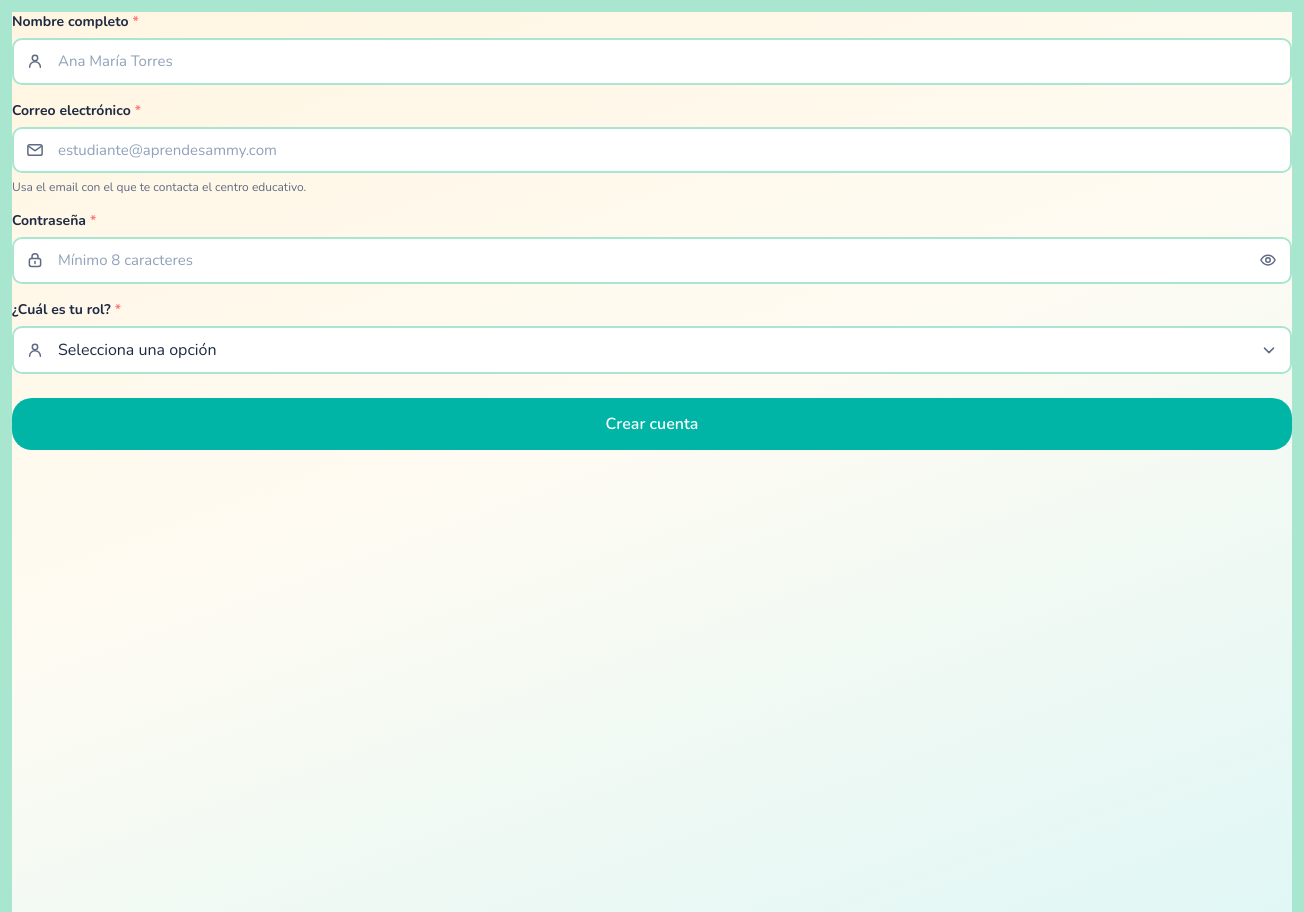
RegisterForm — campo condicional "Sala que lideras" › oculta el campo de sala al volver al rol Padre
Select "Educador" in the dropdown labelled "¿Cuál es tu rol?*" at (652,350), box left=12, top=326, right=1292, bottom=374
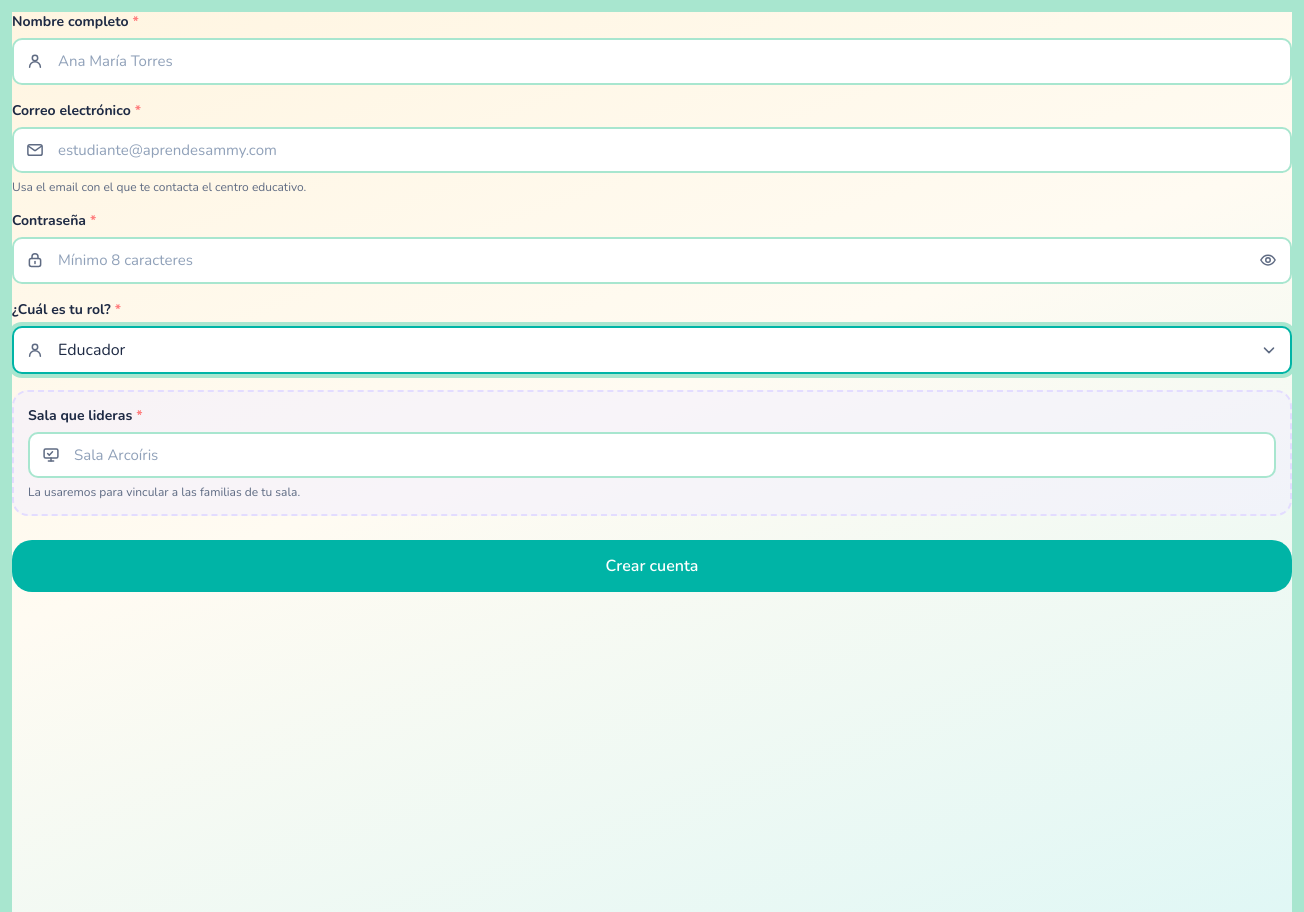
Now the field labelled "Sala que lideras*" is shown, box left=28, top=432, right=1276, bottom=478
Select "Padre / Madre" in the dropdown labelled "¿Cuál es tu rol?*" at (652,350), box left=12, top=326, right=1292, bottom=374
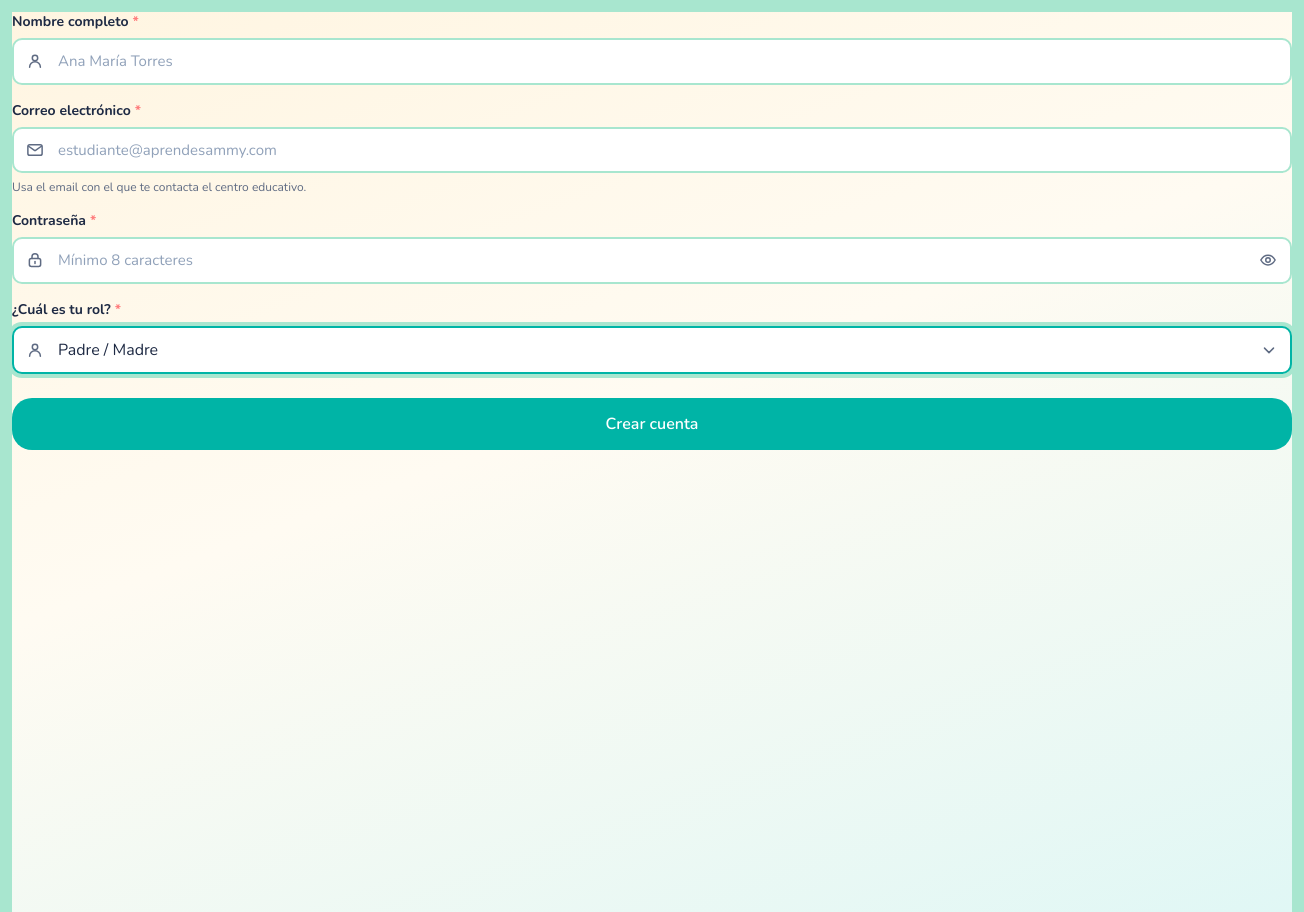
Now the field labelled "Sala que lideras" is gone
